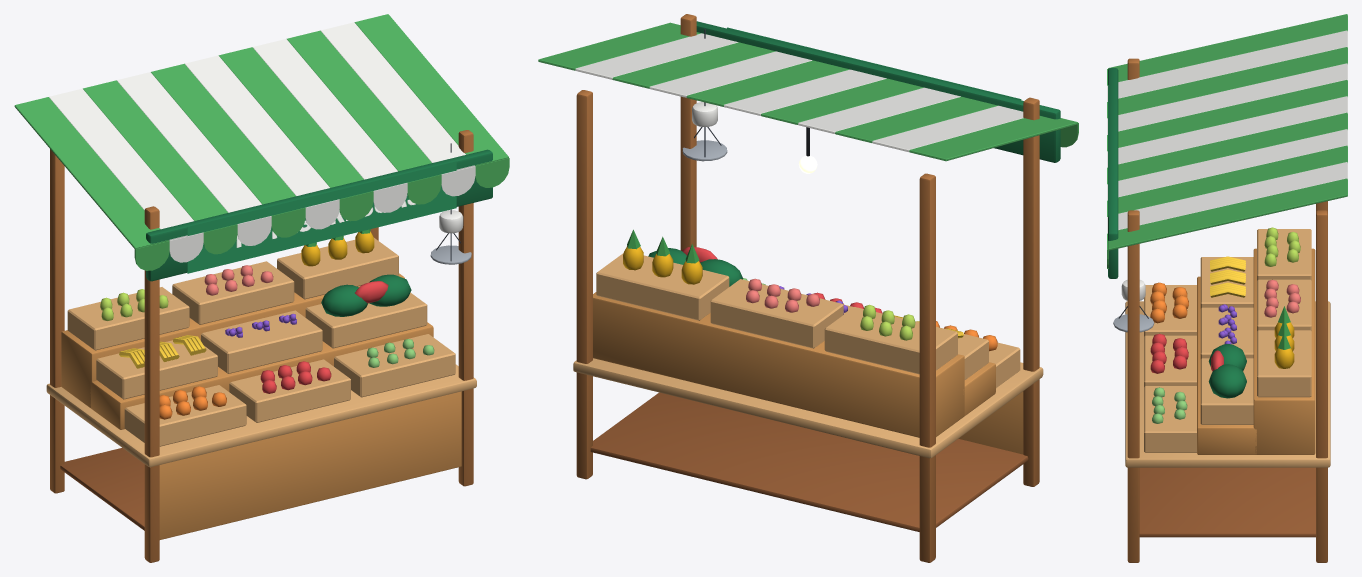
The model's file is banca_frutas.glb.
3 renders of one model, left to right at view 1: azimuth 30°, elevation 25°; view 2: azimuth 150°, elevation 25°; view 3: azimuth 270°, elevation 25°, orthographic. The views are drawn at different scales.
Parts seen in each view (by area): view 1: banca_frutas; view 2: banca_frutas; view 3: banca_frutas.
Boxes of the visible parts, x1,y1,x2,y2 form: banca_frutas: (14, 14, 509, 562); banca_frutas: (538, 14, 1078, 562); banca_frutas: (1107, 14, 1347, 562).
Bounding box in the file's own units: 2.5 × 2.46 × 1.41.
3 materials, 2 textured.
